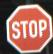Stop sign: (0, 0, 52, 53)
